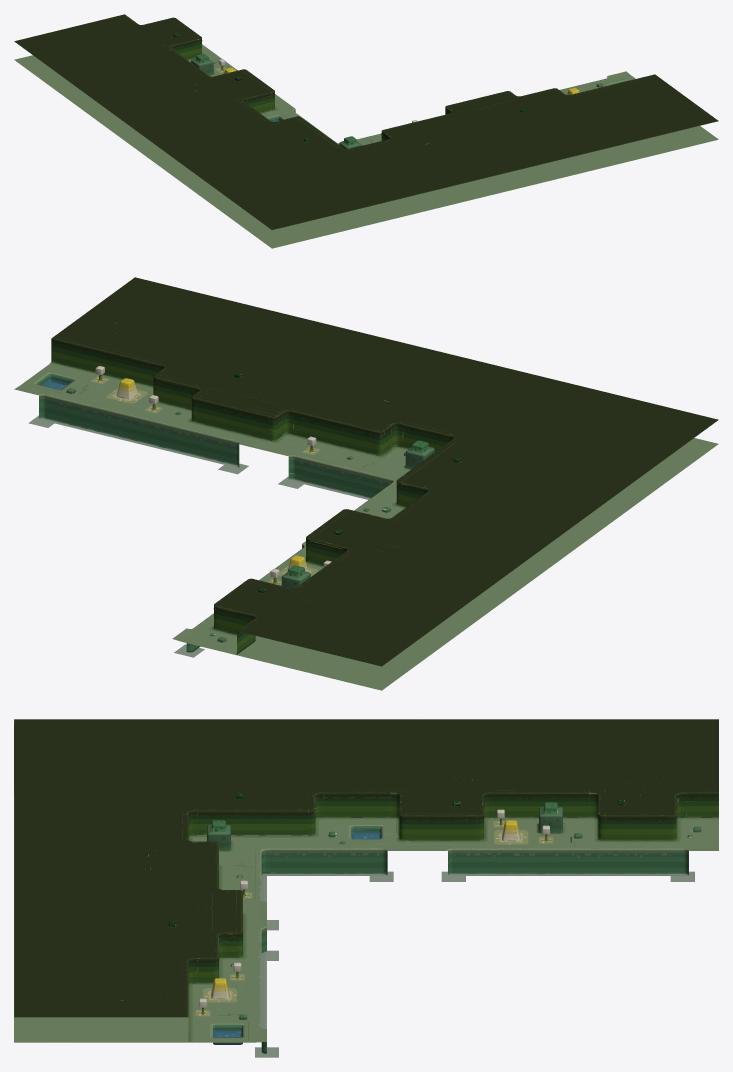
File: C_cave2_out_RU.fbx
3 renders of one model, top to bottom at view 1: azimuth 30°, elevation 25°; view 2: azimuth 150°, elevation 25°; view 3: azimuth 270°, elevation 25°, orthographic. The views are drawn at different scales.
Parts seen in each view (by area): view 1: C_cave2_out_RU.001; view 2: C_cave2_out_RU.001; view 3: C_cave2_out_RU.001.
Boxes of the visible parts, x1,y1,x2,y2 form: C_cave2_out_RU.001: [14, 14, 718, 248]; C_cave2_out_RU.001: [14, 277, 718, 690]; C_cave2_out_RU.001: [14, 719, 718, 1057].
Size of the model in its own units: 117 by 9.82 by 117.
1 material, 1 textured.
